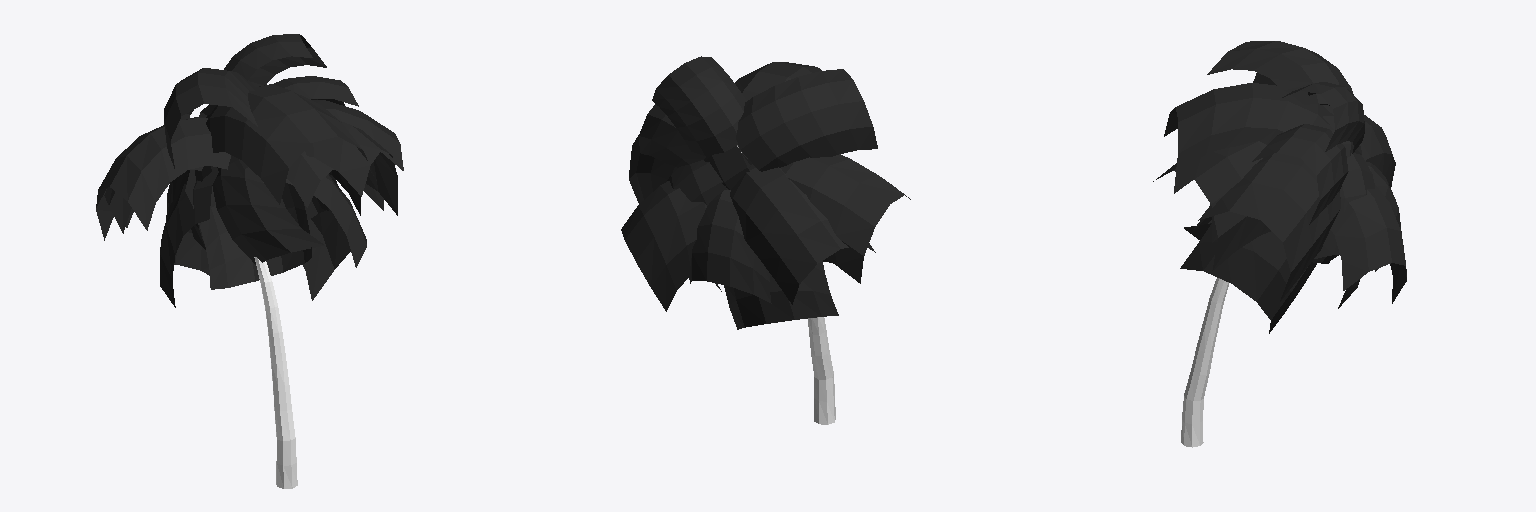
The model's file is Palm.obj.
3 renders of one model, left to right at view 1: azimuth 30°, elevation 25°; view 2: azimuth 150°, elevation 25°; view 3: azimuth 270°, elevation 25°, orthographic.
Parts seen in each view (by area): view 1: Mesh0_surface01, Mesh1_surface01; view 2: Mesh0_surface01, Mesh1_surface01; view 3: Mesh0_surface01, Mesh1_surface01.
Part boxes in pixels (x1,y1,x2,y2): Mesh0_surface01: (96, 34, 403, 307); Mesh1_surface01: (254, 257, 297, 488); Mesh0_surface01: (621, 56, 910, 329); Mesh1_surface01: (737, 145, 835, 424); Mesh0_surface01: (1153, 41, 1406, 333); Mesh1_surface01: (1181, 278, 1228, 447).
Bounding box in the file's own units: 11.01 × 15.12 × 9.01.